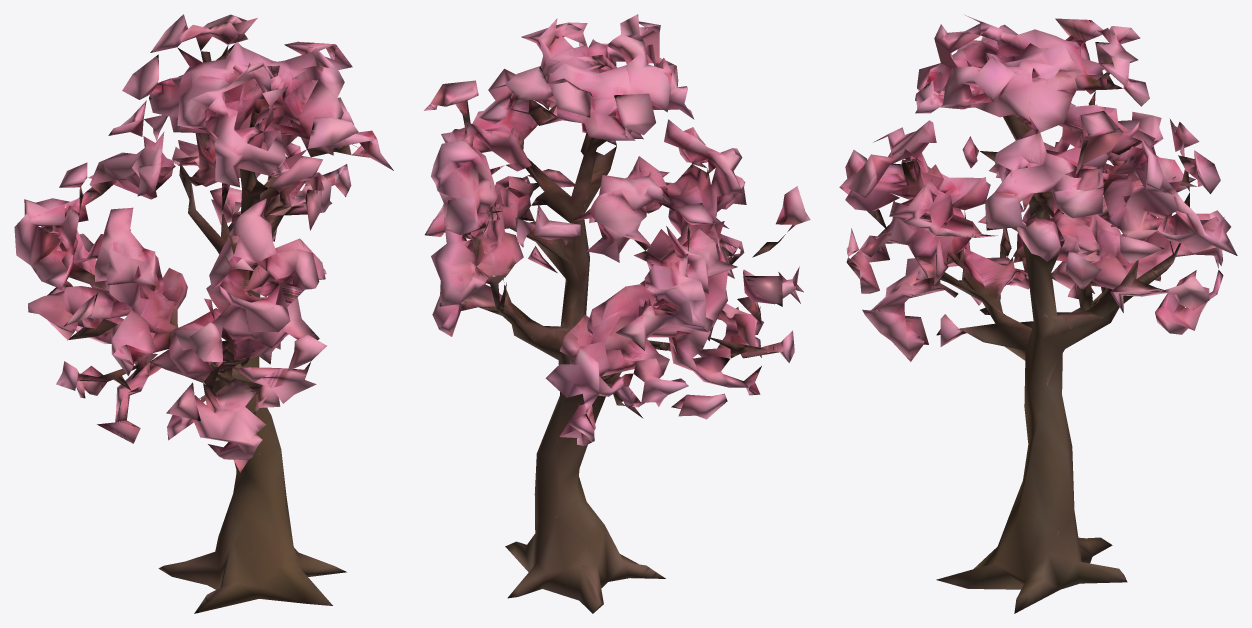
File: cherry_japan.glb
The picture shows the model from 3 angles, left to right: view 1: azimuth 30°, elevation 25°; view 2: azimuth 150°, elevation 25°; view 3: azimuth 270°, elevation 25°; orthographic projection. The views are drawn at different scales.
Bounding box in the file's own units: 1.25 × 2 × 1.32.
1 material, 1 textured.
